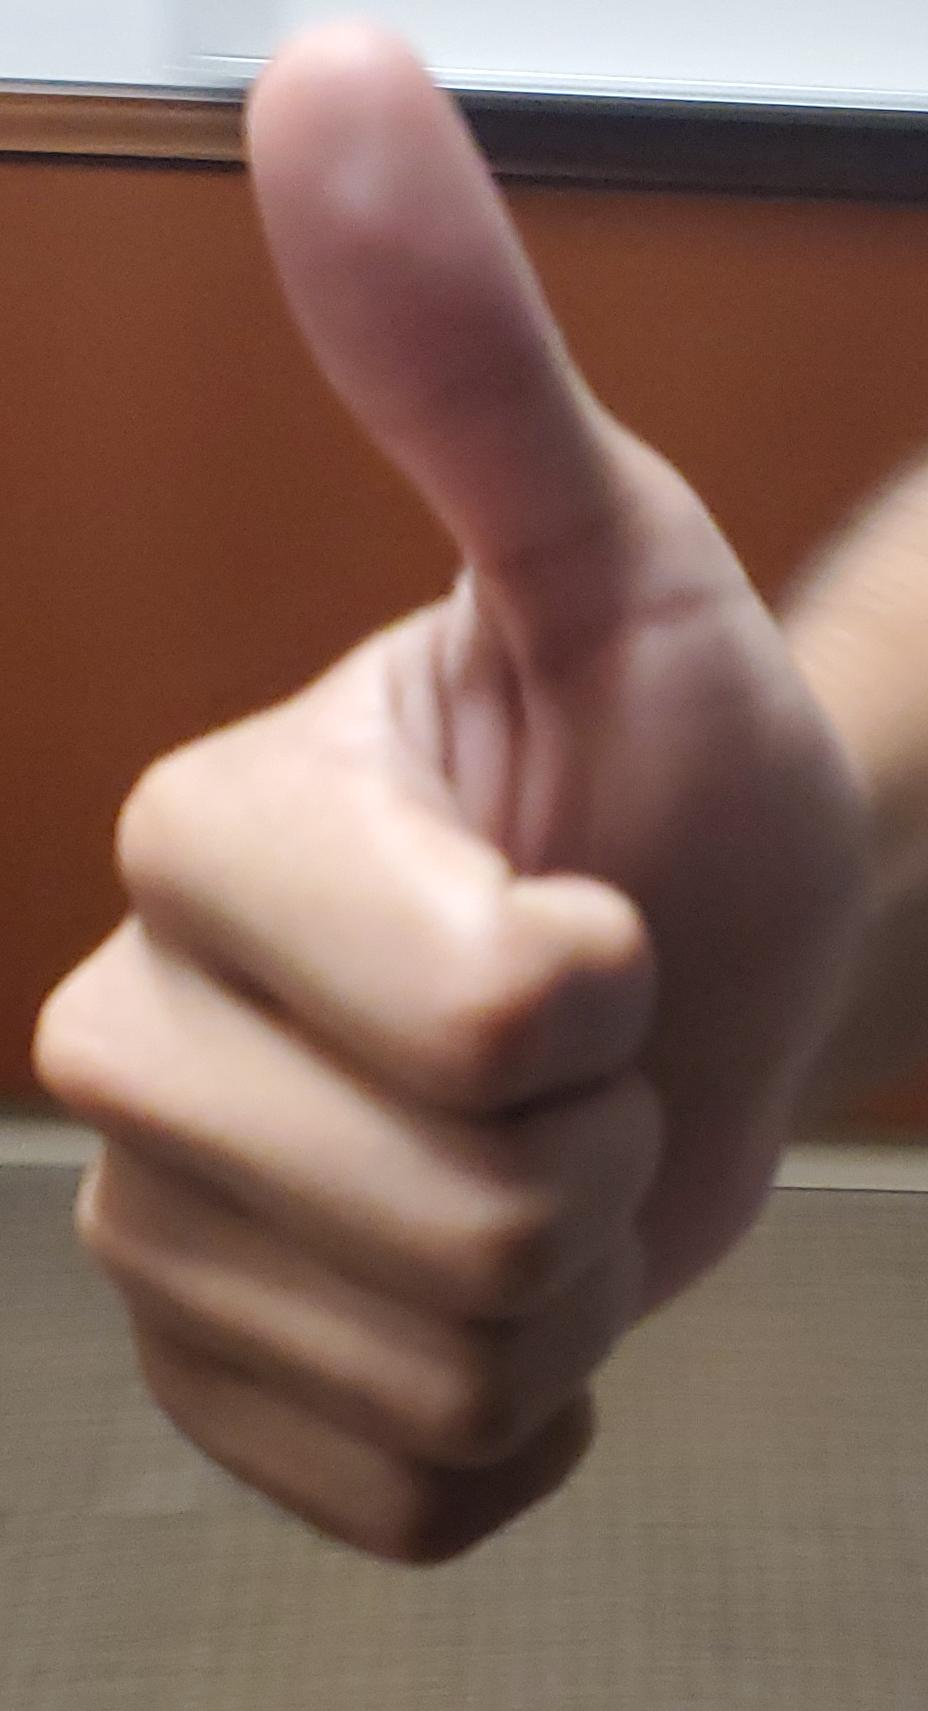up: (0, 1, 928, 1711)
